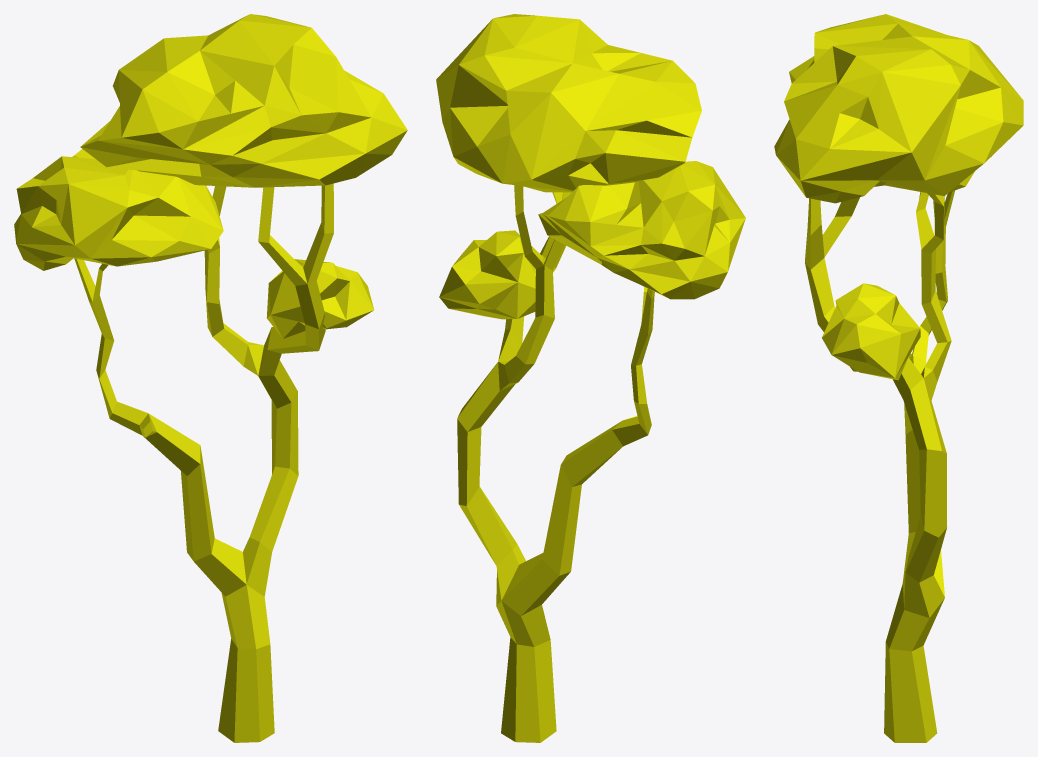
File: cty_tree2.glb
3 renders of one model, left to right at view 1: azimuth 30°, elevation 25°; view 2: azimuth 150°, elevation 25°; view 3: azimuth 270°, elevation 25°, orthographic. The views are drawn at different scales.
Visible parts, largest first — view 1: SM_Env_Tree_02; view 2: SM_Env_Tree_02; view 3: SM_Env_Tree_02.
Boxes of the visible parts, x1,y1,x2,y2 form: SM_Env_Tree_02: (14, 14, 407, 742); SM_Env_Tree_02: (436, 14, 745, 742); SM_Env_Tree_02: (774, 14, 1023, 742).
Size of the model in its own units: 0.0224 by 0.0468 by 0.0154.
1 material, 1 textured.
